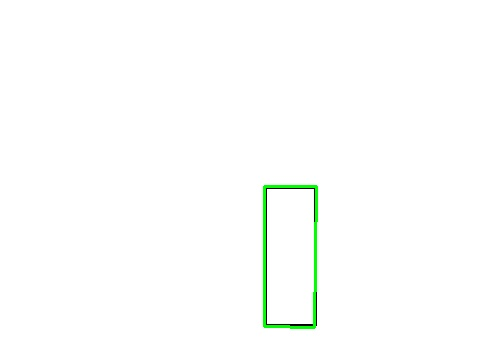line_segment: (263, 185, 318, 328)
